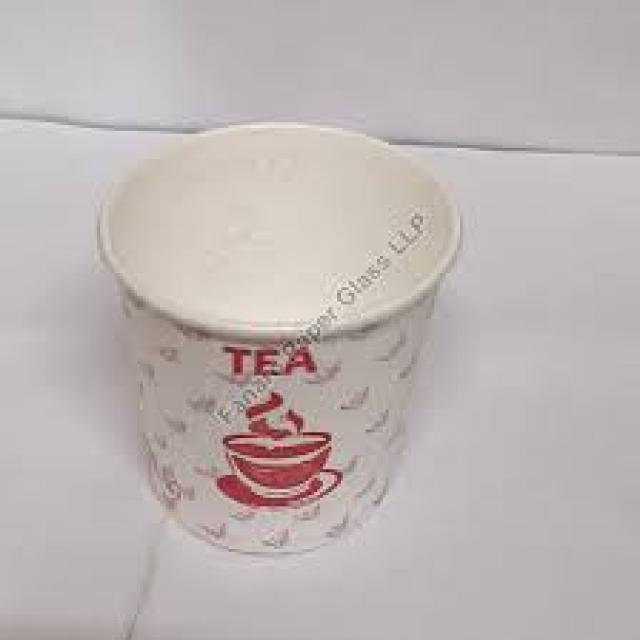PaperCardboard: (99, 124, 464, 551)
